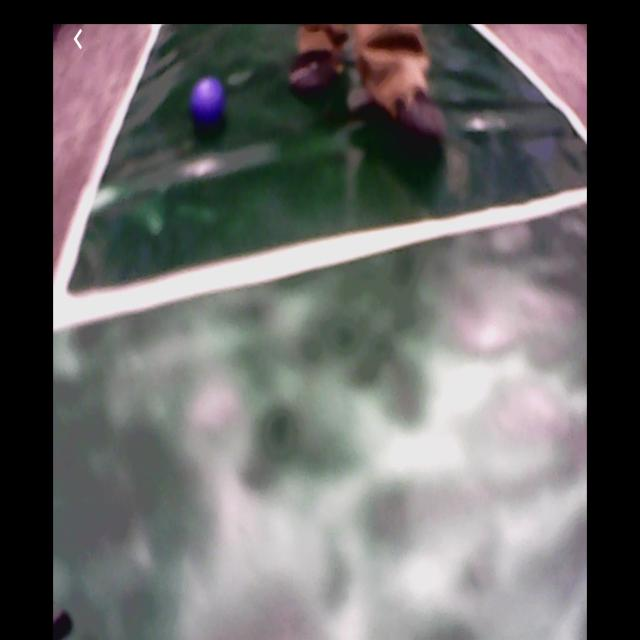ball: (190, 80, 226, 130)
